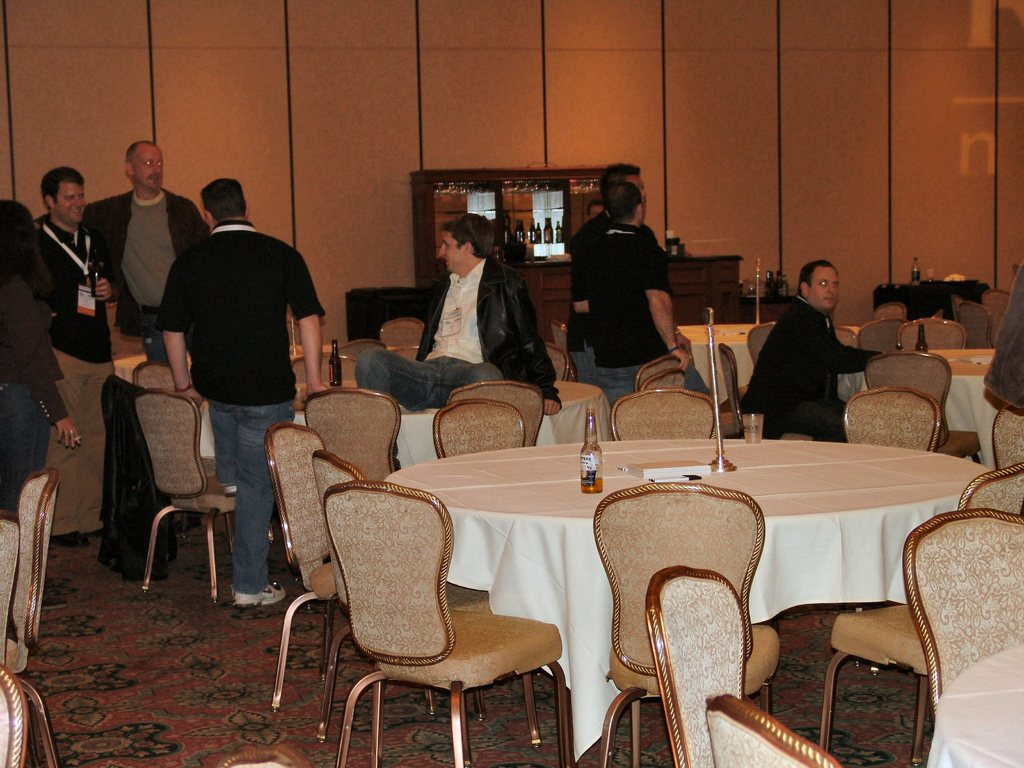Chair: (589, 484, 788, 767), (827, 454, 1023, 739), (314, 454, 490, 742), (895, 506, 1023, 736), (262, 422, 346, 712), (844, 387, 948, 614), (139, 415, 246, 602), (749, 284, 1023, 352), (861, 347, 989, 468), (700, 694, 865, 767), (716, 344, 827, 449), (13, 462, 69, 667), (306, 388, 412, 474), (412, 396, 527, 471), (610, 381, 729, 441), (444, 384, 557, 447), (0, 666, 70, 767), (287, 352, 373, 388), (130, 362, 192, 398), (384, 321, 447, 355), (632, 351, 691, 385), (544, 321, 578, 376), (995, 405, 1023, 471), (639, 368, 694, 395), (544, 339, 575, 380), (337, 342, 380, 360)
